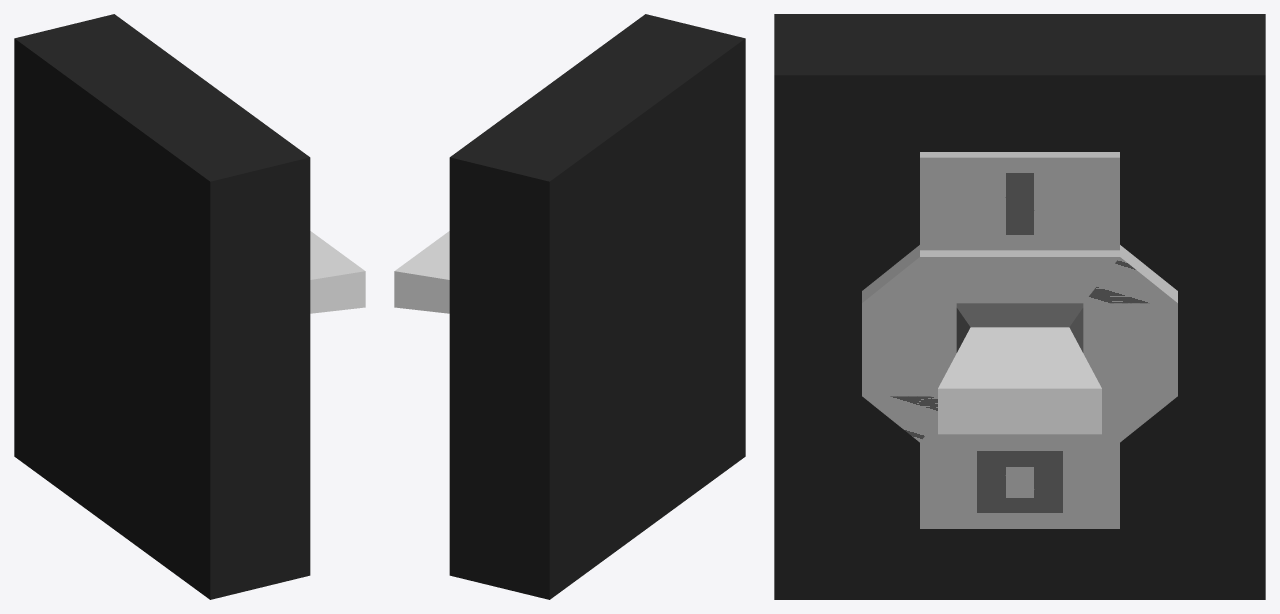
Rendered from LowVoltageSwitch.obj.
3 views of the same model, side by side, from view 1: azimuth 30°, elevation 25°; view 2: azimuth 150°, elevation 25°; view 3: azimuth 270°, elevation 25° (orthographic). The views are drawn at different scales.
Parts seen in each view (by area): view 1: case, lever; view 2: case, lever; view 3: case, lever.
Boxes of the visible parts, box(x1,y1,x2,y2) form: case: box(14, 14, 310, 599); lever: box(310, 231, 365, 313); case: box(449, 14, 745, 599); lever: box(394, 231, 449, 313); case: box(774, 14, 1265, 599); lever: box(938, 303, 1101, 434).
Bounding box in the file's own units: 0.364 × 0.66 × 0.56.
Materials: 2 (2 with a texture image).
